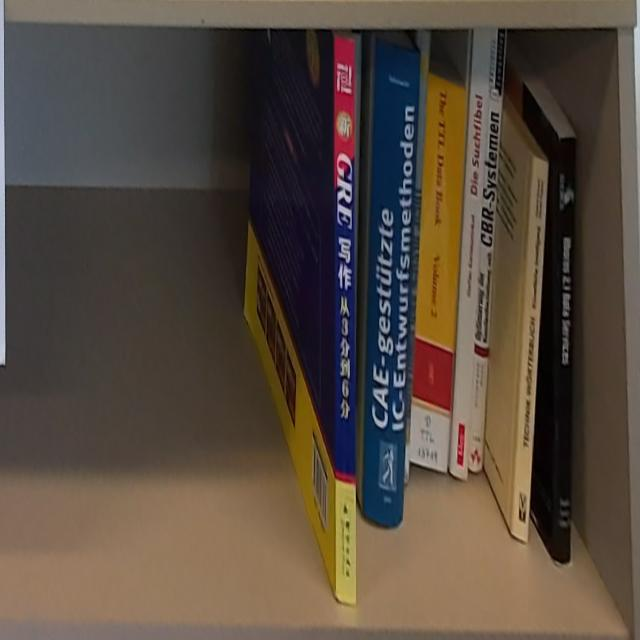Book Spine: (363, 41, 421, 527), (409, 75, 468, 474), (449, 29, 492, 479), (468, 27, 508, 474), (510, 154, 548, 544), (335, 37, 358, 608), (555, 139, 577, 566)
